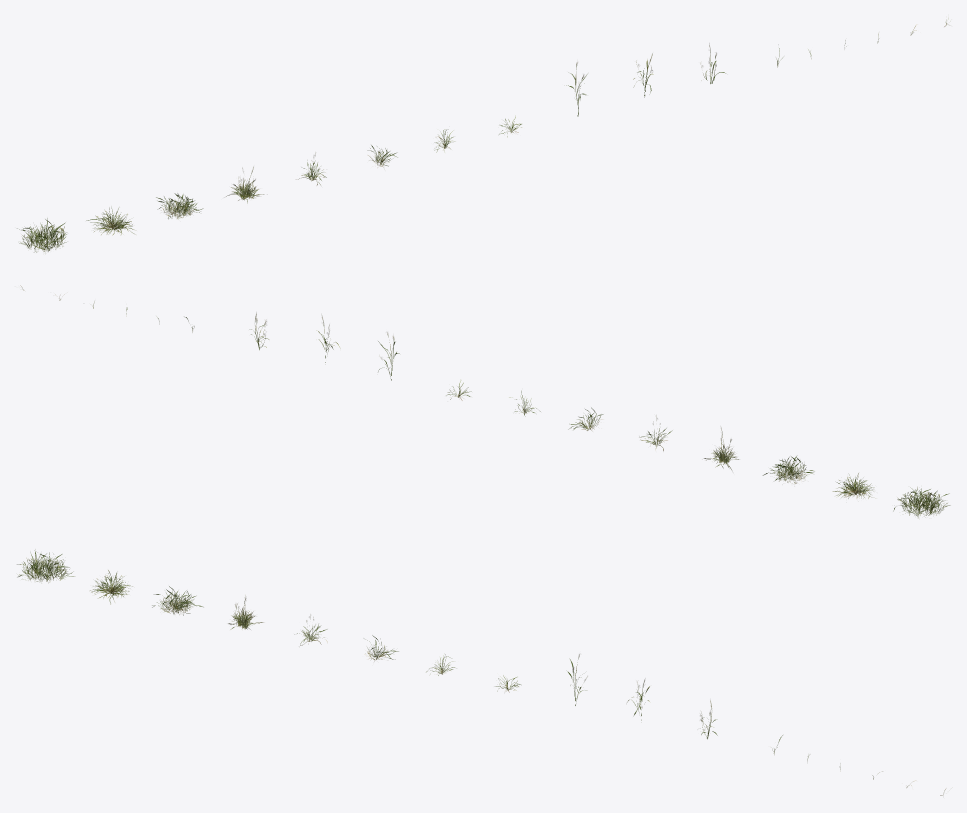
The model's file is grass_medium_01.glb.
3 views of the same model, one above another, from view 1: azimuth 30°, elevation 25°; view 2: azimuth 150°, elevation 25°; view 3: azimuth 330°, elevation 25° (orthographic).
Parts seen in each view (by area): view 1: grass_medium_01_large_a_LOD0, grass_medium_01_large_c_LOD0, grass_medium_01_large_b_LOD0; view 2: grass_medium_01_large_a_LOD0, grass_medium_01_large_c_LOD0; view 3: grass_medium_01_large_a_LOD0, grass_medium_01_large_c_LOD0.
Boxes of the visible parts, <box> form: grass_medium_01_large_a_LOD0: <box>17,218,66,252</box>; grass_medium_01_large_c_LOD0: <box>156,193,203,218</box>; grass_medium_01_large_b_LOD0: <box>86,207,135,235</box>; grass_medium_01_large_a_LOD0: <box>893,487,950,518</box>; grass_medium_01_large_c_LOD0: <box>762,455,814,483</box>; grass_medium_01_large_a_LOD0: <box>17,549,74,582</box>; grass_medium_01_large_c_LOD0: <box>152,586,203,615</box>.
Bounding box in the file's own units: 5.6 × 0.3418 × 0.3266.
Materials: 1 (1 with a texture image).
